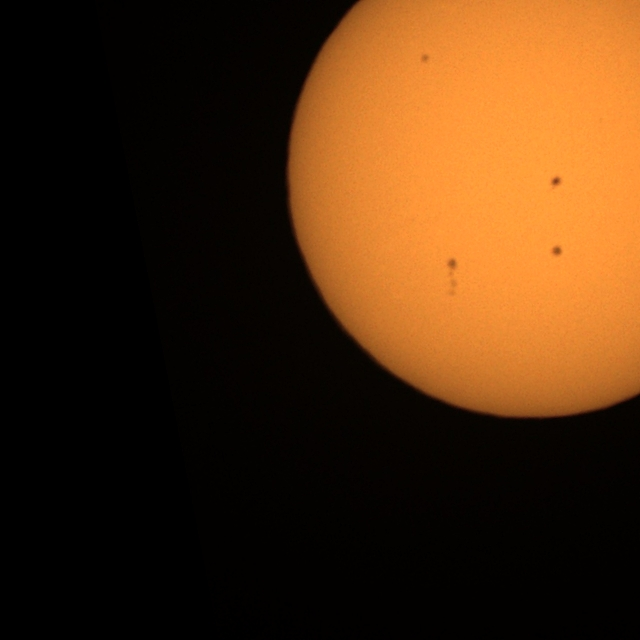sunspot: (444, 255, 461, 298), (445, 256, 459, 276), (549, 175, 563, 190), (550, 244, 564, 259), (420, 53, 431, 65)
